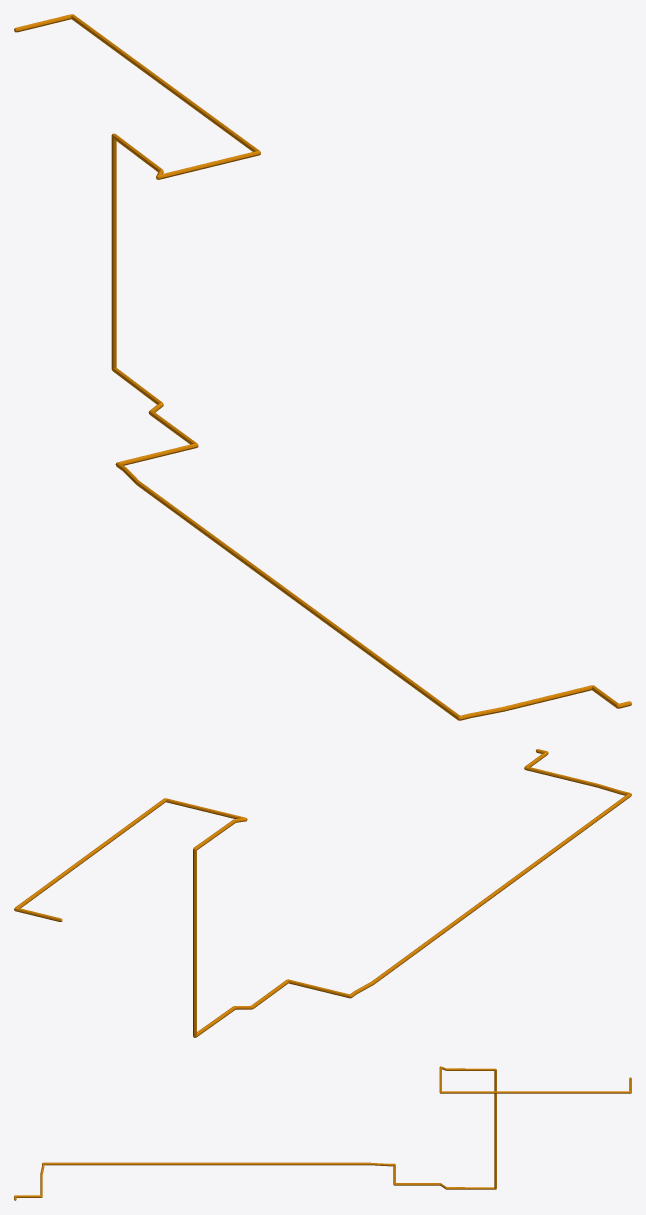
The picture shows the model from 3 angles, top to bottom: view 1: azimuth 30°, elevation 25°; view 2: azimuth 150°, elevation 25°; view 3: azimuth 270°, elevation 25°; orthographic projection. The views are drawn at different scales.
Size of the model in its own units: 871 by 1020 by 4720.
